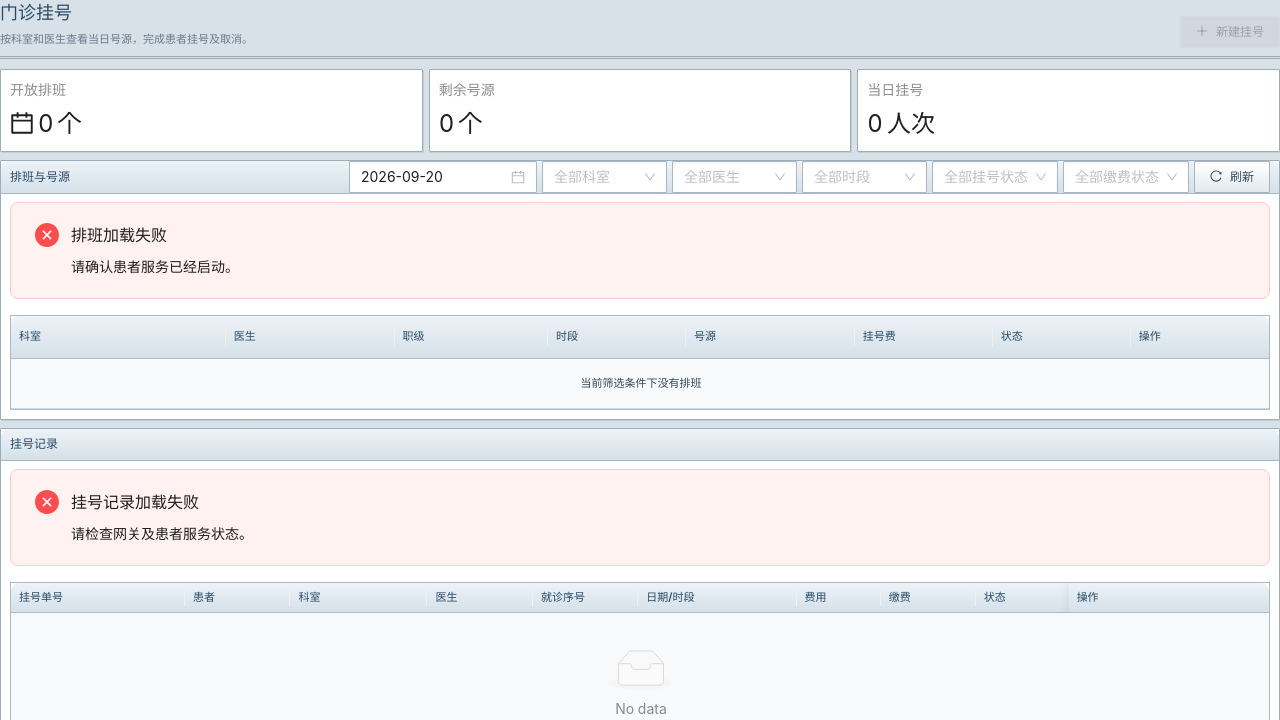
RegistrationPage › reports schedule and registration loading failures and reloads both on refresh
Expected: the text "排班加载失败" is shown, [71,225,167,245]
Expected: the text "挂号记录加载失败" is shown, [71,492,199,512]
Click the button "刷新" at (1232, 177), box [1194,161,1270,193]
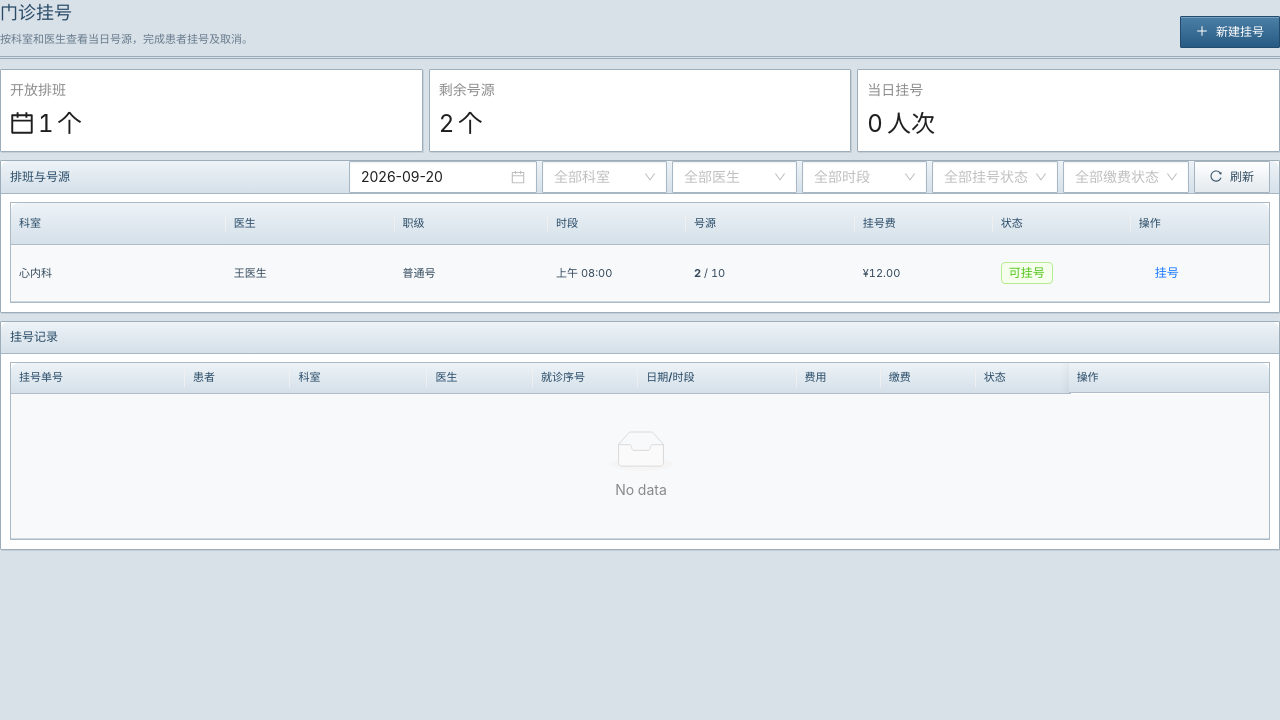
Result: the text "王医生" is shown at [226,246,395,302]
Result: the text "排班加载失败" is gone
Result: the text "挂号记录加载失败" is gone
